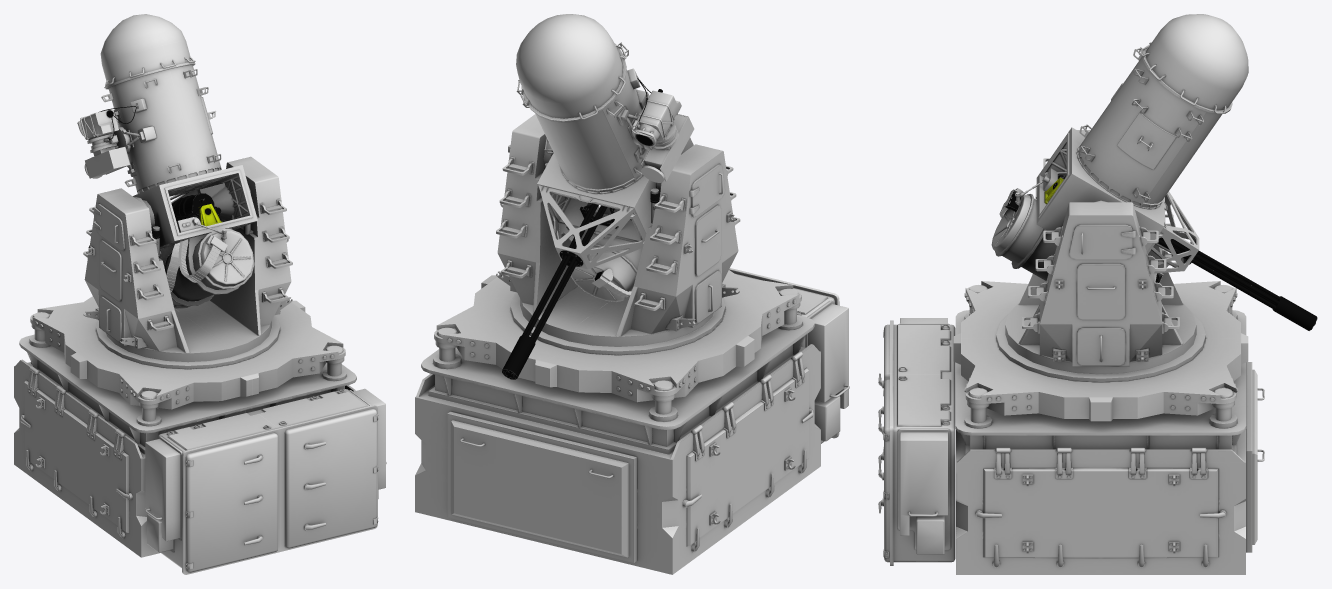
File: ciws_death.obj
3 renders of one model, left to right at view 1: azimuth 30°, elevation 25°; view 2: azimuth 150°, elevation 25°; view 3: azimuth 270°, elevation 25°, orthographic. The views are drawn at different scales.
Visible parts, largest first — view 1: Stand, Rotate_Z, Nav-Radar, Rotate_x, Gun_Part; view 2: Stand, Rotate_Z, Nav-Radar, Rotate_x, Gun; view 3: Stand, Rotate_Z, Nav-Radar, Rotate_x, Gun, Gun_Part.
Part boxes in pixels (x1,y1,x2,y2): Stand: (14, 296, 386, 574); Rotate_Z: (83, 156, 292, 369); Nav-Radar: (77, 14, 221, 193); Rotate_x: (133, 165, 257, 308); Gun_Part: (171, 183, 234, 239); Stand: (415, 268, 849, 574); Rotate_Z: (496, 114, 740, 355); Nav-Radar: (516, 14, 694, 193); Rotate_x: (537, 137, 693, 301); Gun: (502, 203, 607, 379); Stand: (878, 281, 1264, 574); Rotate_Z: (996, 130, 1205, 382); Nav-Radar: (1076, 14, 1248, 209); Rotate_x: (991, 127, 1199, 282); Gun: (1157, 237, 1317, 330); Gun_Part: (1015, 168, 1199, 260).
Size of the model in its own units: 2.05 by 3.55 by 2.85.
6 materials, 5 textured.
